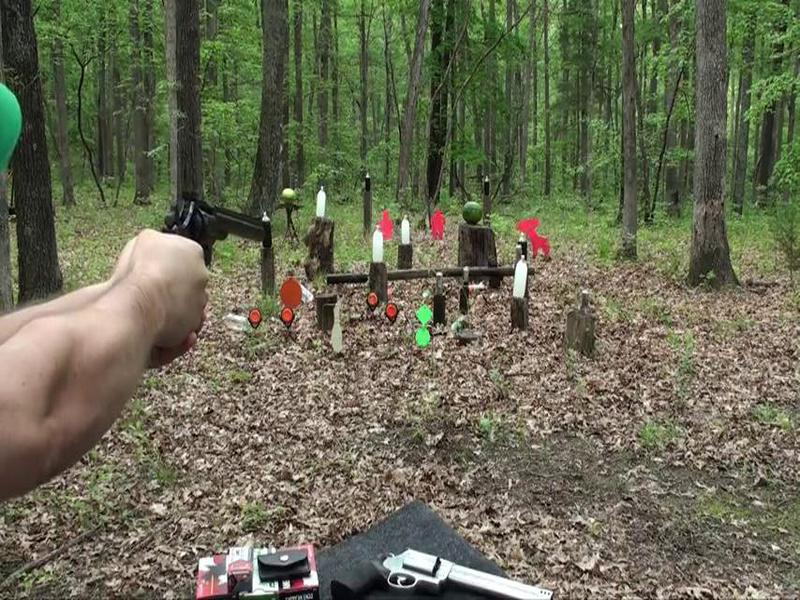Revolver: (137, 182, 286, 282)
